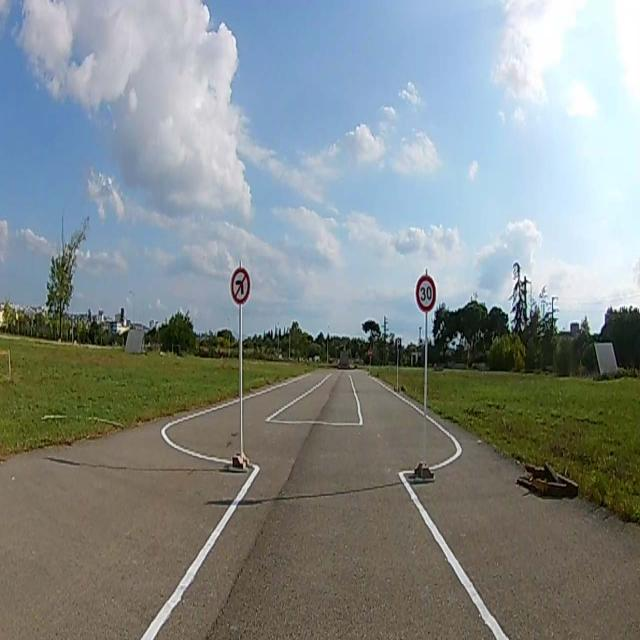30: (416, 276, 436, 312)
soladonulmez: (231, 268, 251, 305)
